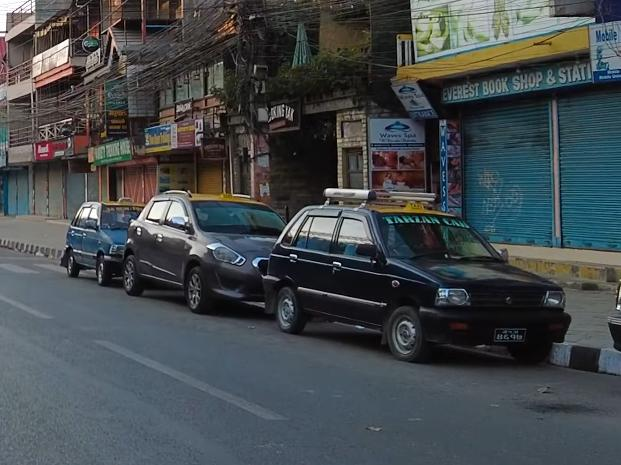taxi: (276, 184, 577, 367), (127, 185, 300, 313), (61, 196, 158, 289)
